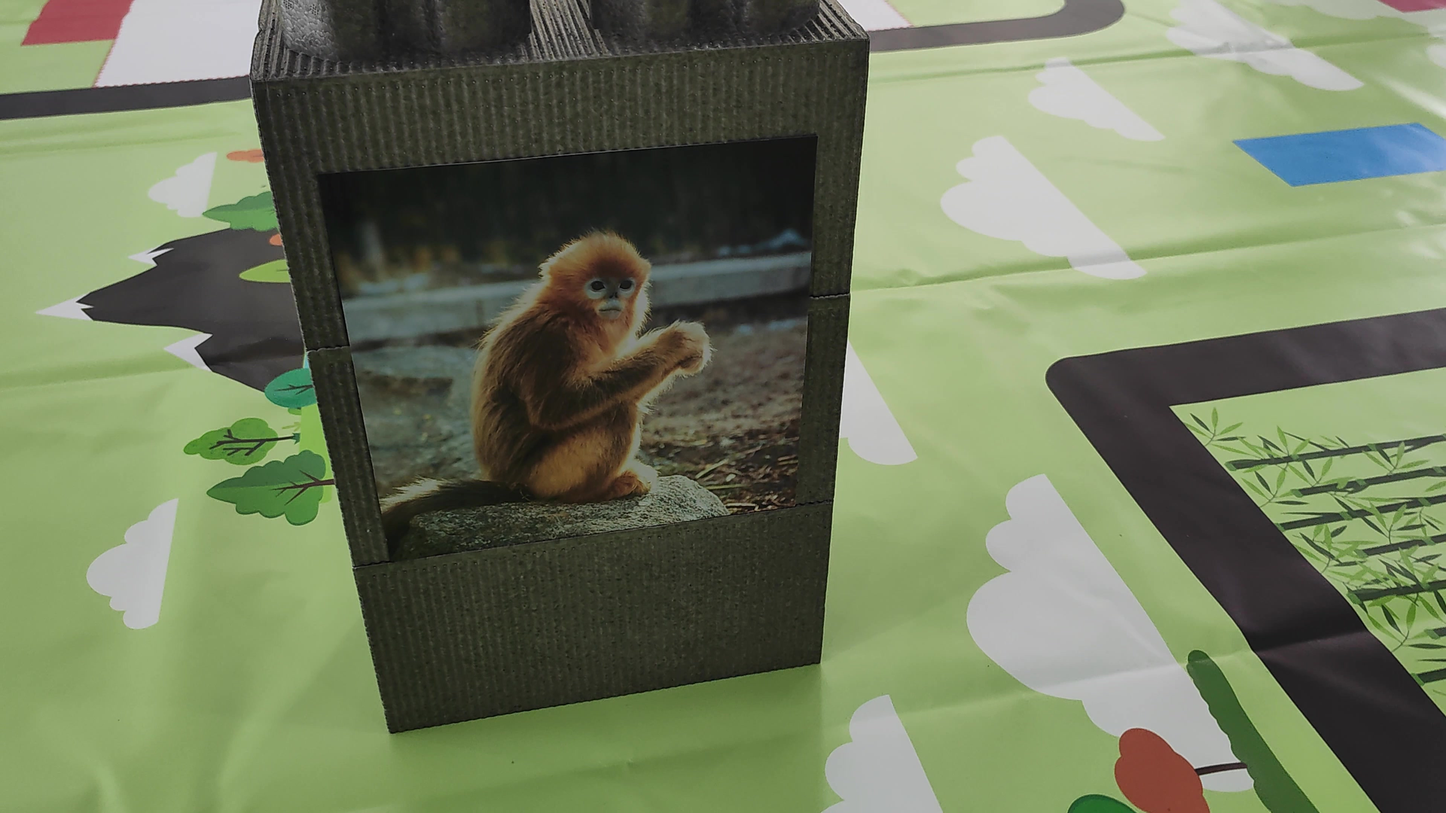monkey: (371, 222, 736, 548)
